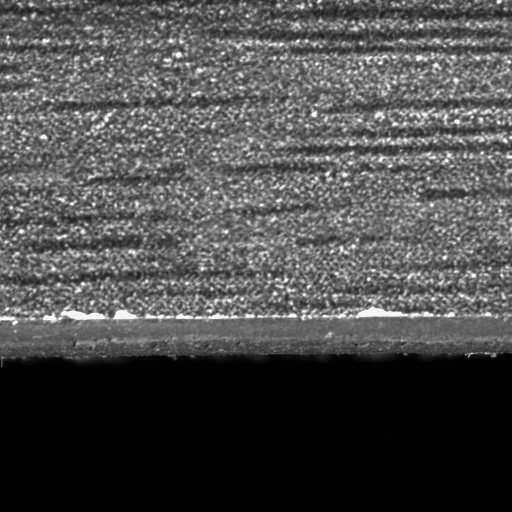huashang: (60, 309, 136, 322), (357, 306, 407, 320)
